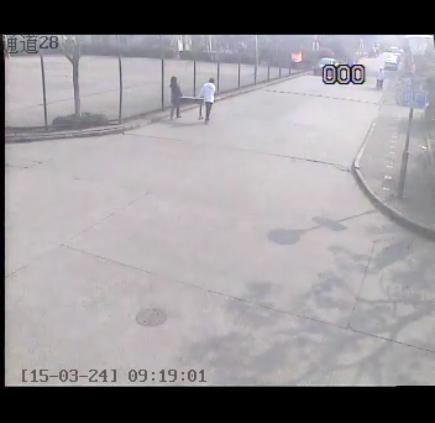person: (158, 63, 185, 129), (193, 70, 225, 124)
